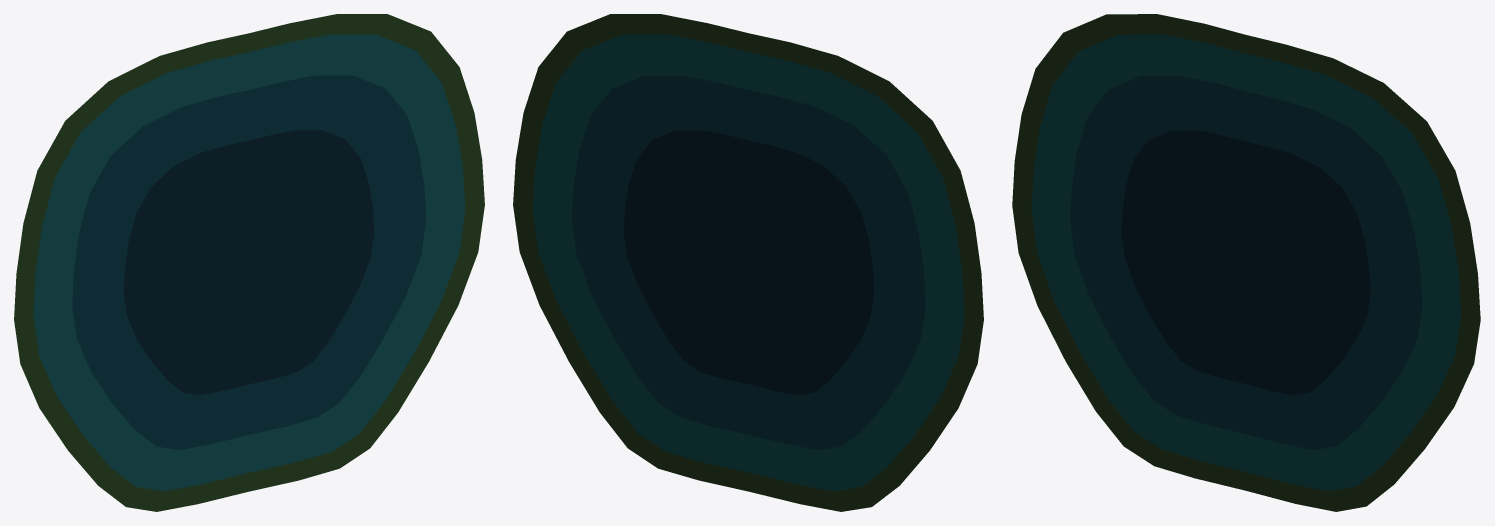
Rendered from SM_ForestPond_B.obj.
3 views of the same model, side by side, from view 1: azimuth 30°, elevation 25°; view 2: azimuth 150°, elevation 25°; view 3: azimuth 330°, elevation 25° (orthographic).
Visible parts, largest first — view 1: SM_ForestPond_B; view 2: SM_ForestPond_B; view 3: SM_ForestPond_B.
Part boxes in pixels (x1,y1,x2,y2): SM_ForestPond_B: (14, 14, 484, 511); SM_ForestPond_B: (513, 14, 983, 511); SM_ForestPond_B: (1012, 14, 1480, 511).
Bounding box in the file's own units: 218 × 204 × 0.
